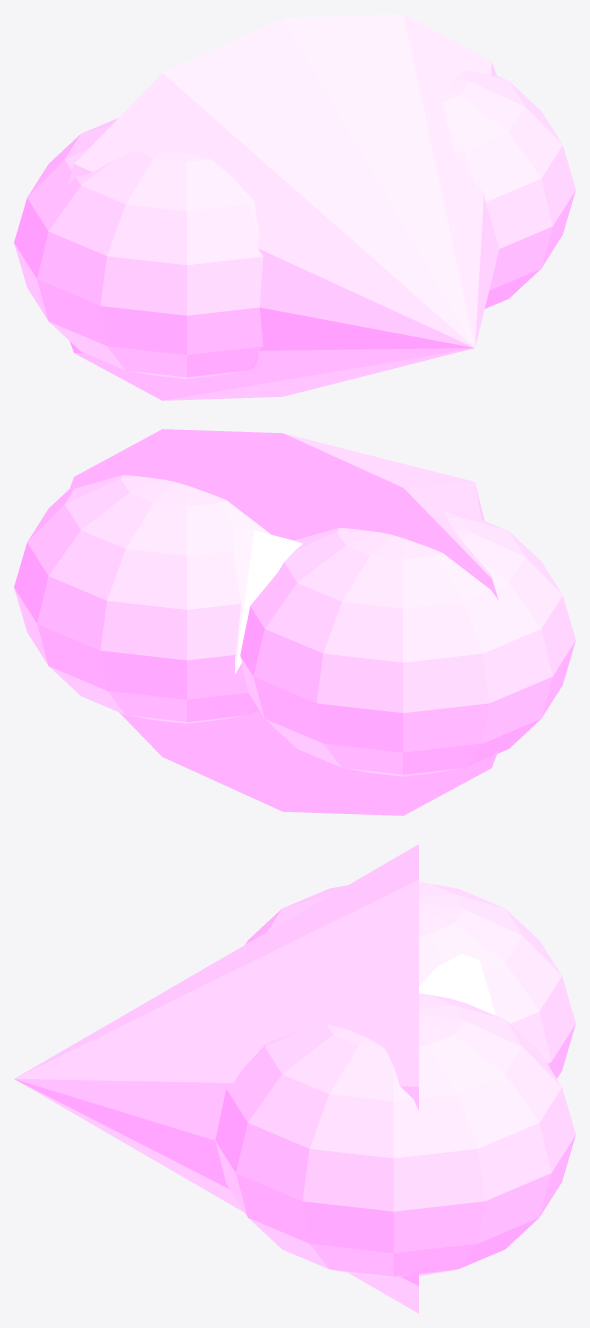
Rendered from heart_held.gltf.
3 views of the same model, one above another, from view 1: azimuth 30°, elevation 25°; view 2: azimuth 150°, elevation 25°; view 3: azimuth 270°, elevation 25° (orthographic). The views are drawn at different scales.
Visible parts, largest first — view 1: deep_heart_held; view 2: deep_heart_held; view 3: deep_heart_held.
Part boxes in pixels (box(x1,y1,x2,y2)): deep_heart_held: box(14, 14, 575, 400); deep_heart_held: box(14, 429, 575, 815); deep_heart_held: box(14, 844, 575, 1313).
Size of the model in its own units: 0.124 by 0.087 by 0.111.
